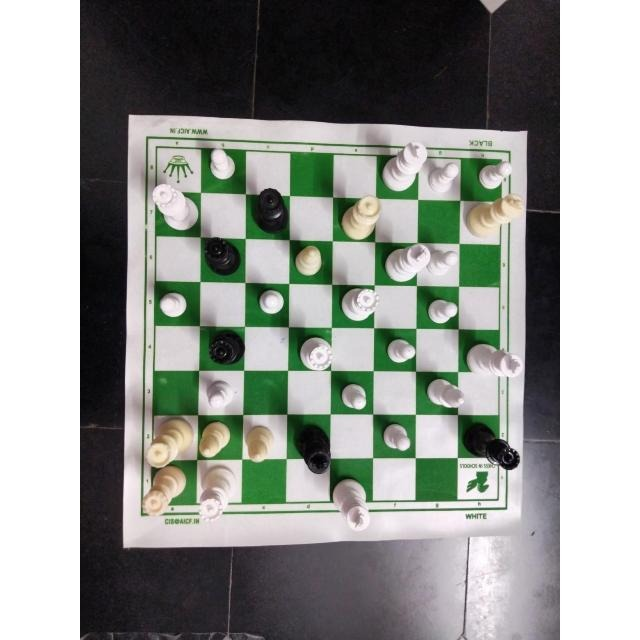black-king: (294, 424, 336, 477)
black-queen: (461, 417, 521, 474), (250, 185, 290, 237), (201, 234, 240, 277), (203, 327, 245, 365)
white-bishop: (242, 420, 280, 465), (423, 376, 467, 412), (197, 418, 235, 459), (290, 242, 325, 282)
white-king: (466, 192, 526, 241), (380, 137, 428, 193), (329, 478, 375, 536), (464, 340, 523, 381), (378, 241, 429, 287)
white-pawn: (201, 377, 237, 413), (207, 145, 239, 185), (380, 421, 416, 455), (428, 161, 460, 199), (475, 158, 513, 189), (336, 380, 370, 414), (424, 295, 459, 328), (157, 287, 188, 323), (429, 246, 461, 280), (383, 335, 415, 368), (254, 287, 286, 319)
white-queen: (150, 181, 200, 233), (197, 465, 239, 521), (145, 415, 192, 464), (142, 467, 188, 517), (338, 194, 383, 239), (337, 283, 379, 325), (295, 332, 334, 371)
